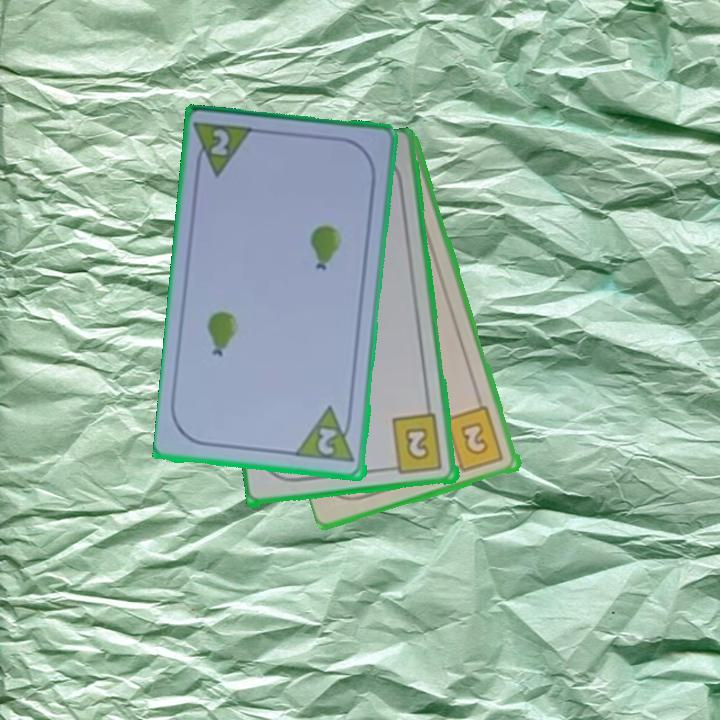2b: (442, 403, 507, 475), (384, 411, 446, 477)
2p: (192, 118, 258, 182), (314, 424, 341, 458)
